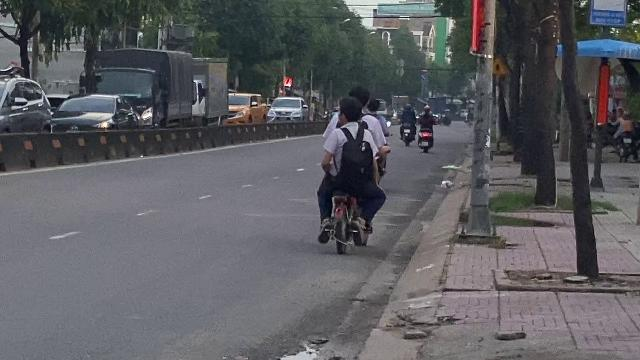motorcyclist: (313, 90, 391, 256)
nohelmet: (339, 96, 363, 122)
